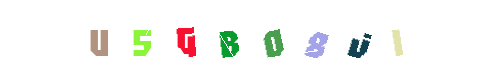0: (211, 0, 291, 80)
1: (319, 0, 399, 80)
5: (101, 0, 181, 80)
8: (250, 0, 330, 80)
B: (211, 0, 291, 80)
G: (146, 0, 226, 80)
J: (280, 0, 360, 80)
U: (72, 0, 152, 80)
